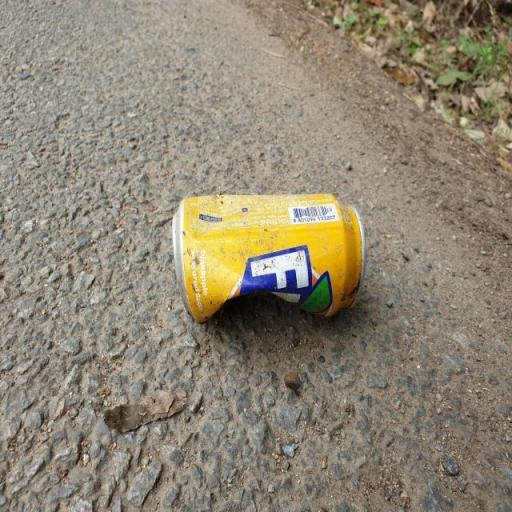metal: (144, 182, 400, 362)
